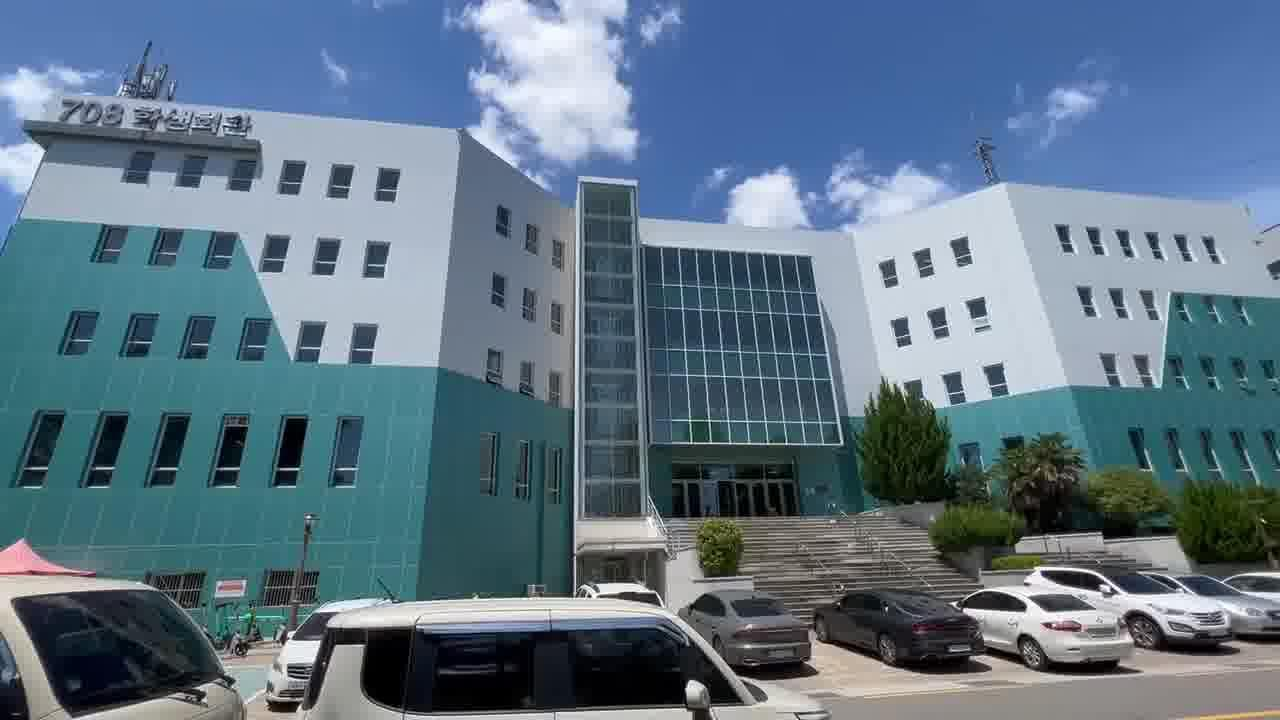building: (10, 53, 1280, 503)
